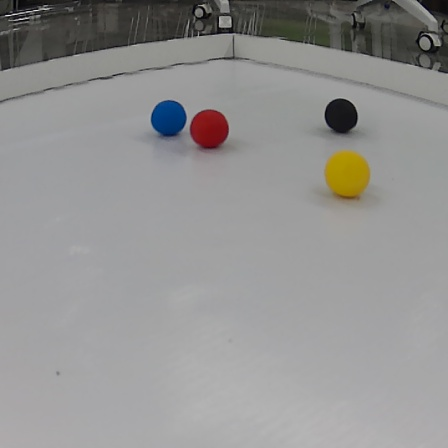blue: (150, 100, 188, 140)
red: (188, 108, 231, 148)
yellow: (323, 150, 370, 201)
